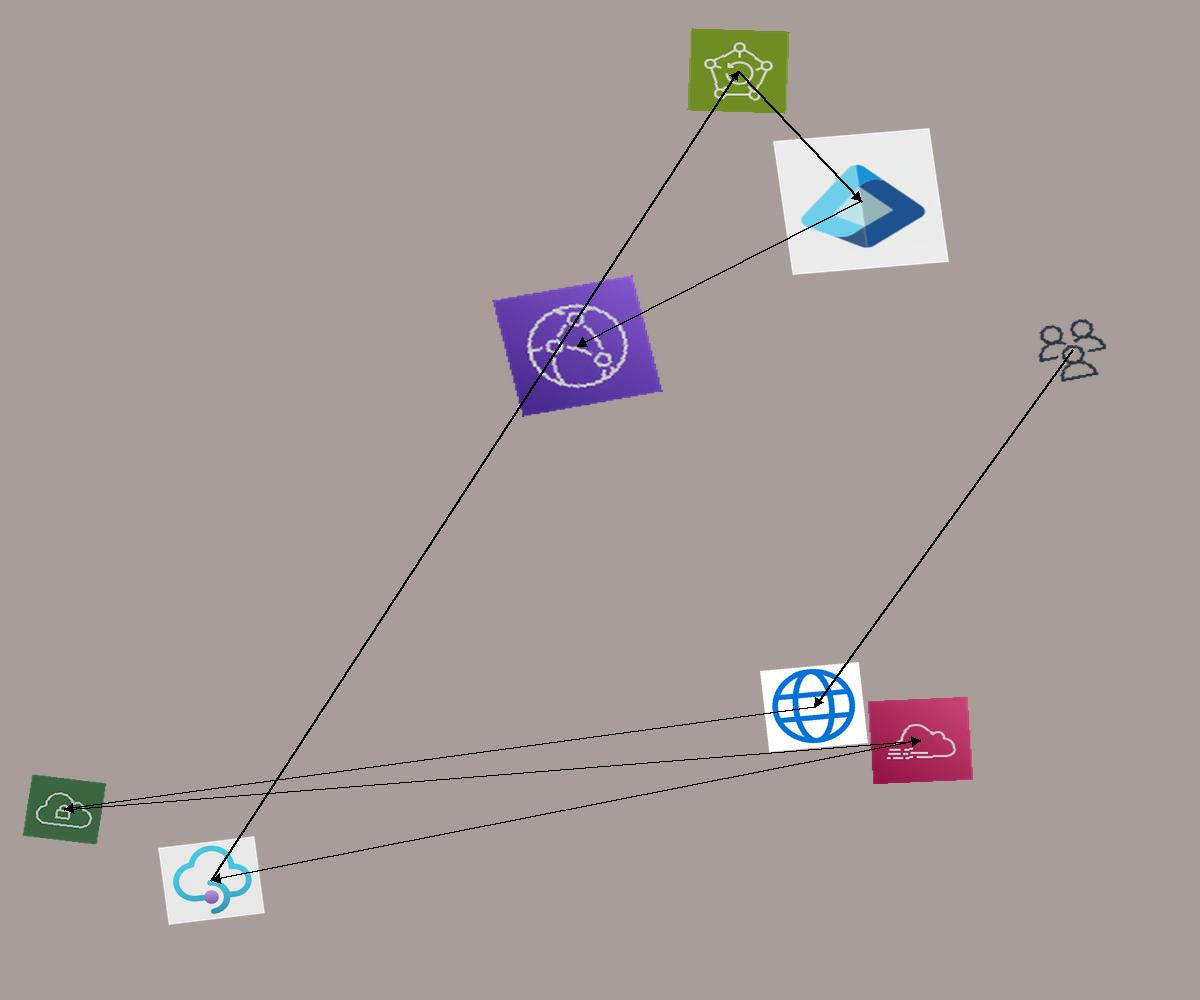AWS-Backup: (687, 28, 790, 114)
AWS-CloudFront: (492, 275, 663, 417)
AWS-CloudTrail: (867, 696, 974, 785)
AWS-Private_vpc: (22, 774, 107, 845)
AWS-Res_Users: (1027, 313, 1117, 388)
Azure_api_gateway: (158, 836, 265, 925)
Azure_http: (760, 662, 868, 752)
Azure_microsoft_entra: (773, 128, 949, 275)
